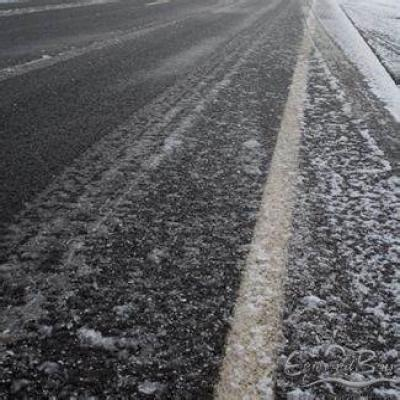iced-road: (2, 2, 302, 400), (276, 27, 400, 399)
